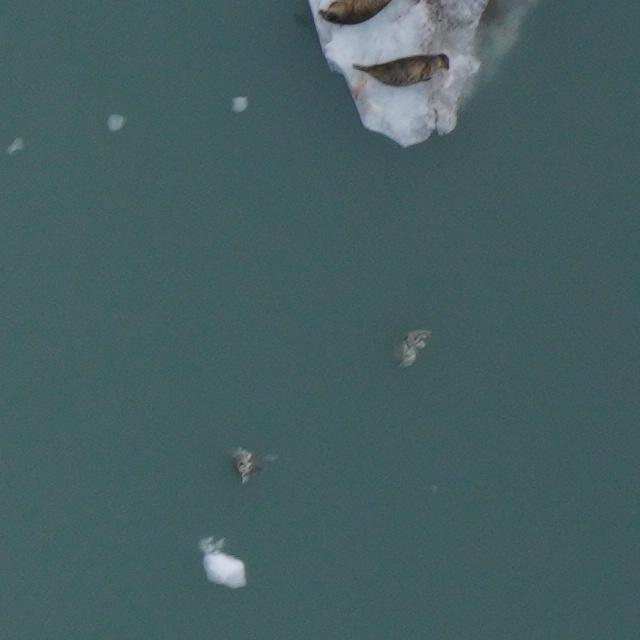seal: (349, 49, 455, 91), (311, 0, 398, 29)
